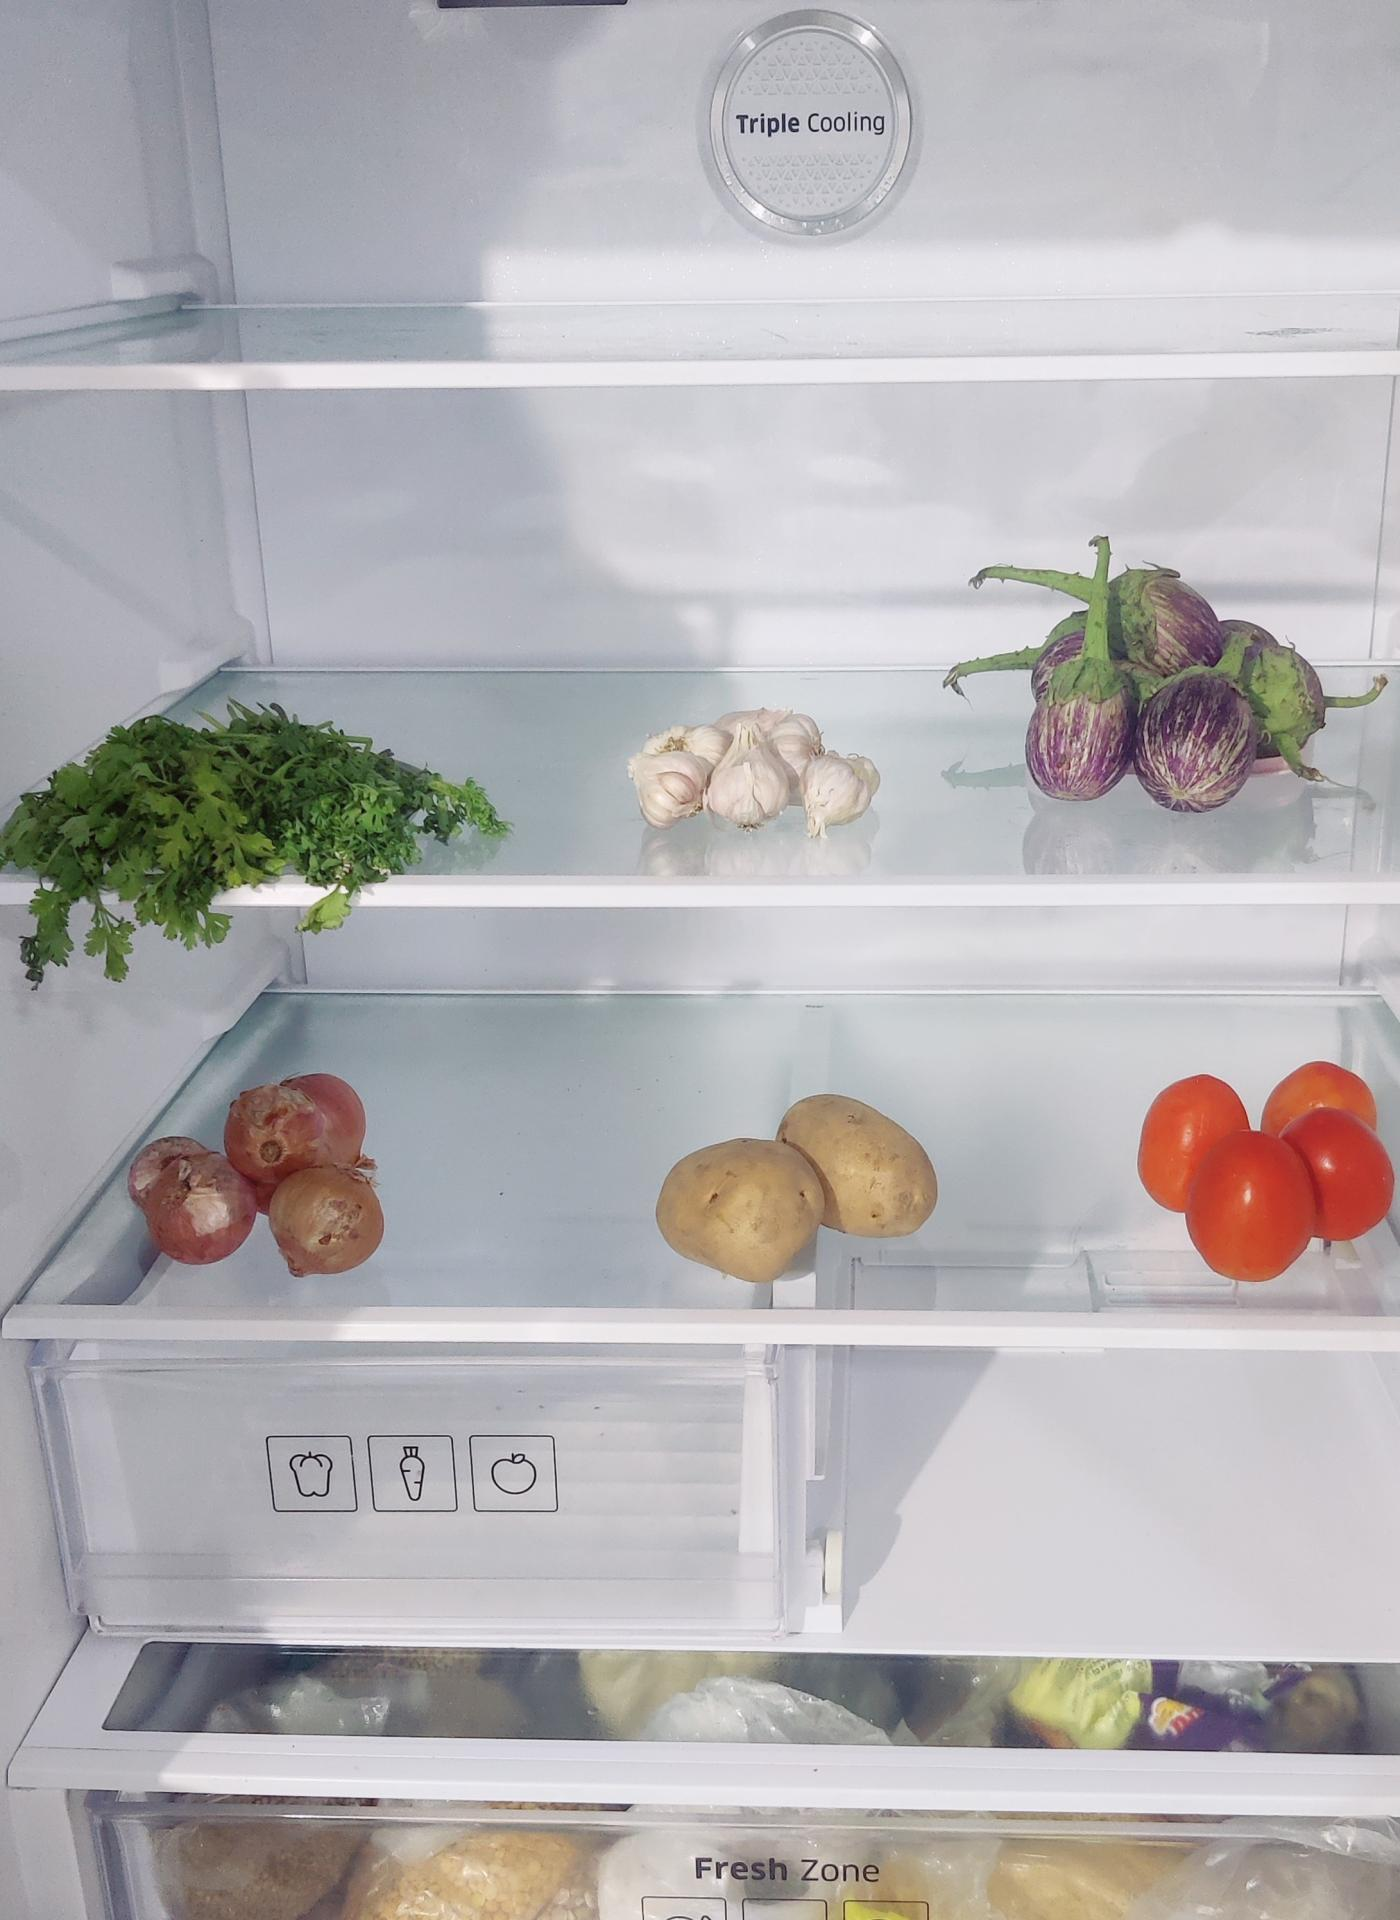brinjal: (996, 571, 1331, 806)
coriander: (13, 705, 498, 923)
garlic: (632, 708, 886, 838)
onion: (131, 1060, 374, 1276)
potato: (653, 1096, 941, 1285)
tomato: (1136, 1052, 1397, 1275)
